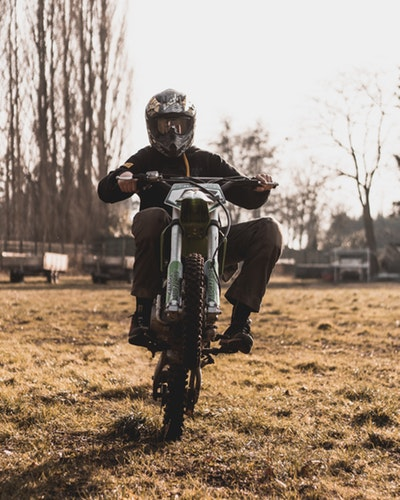helmet: (135, 86, 208, 157)
